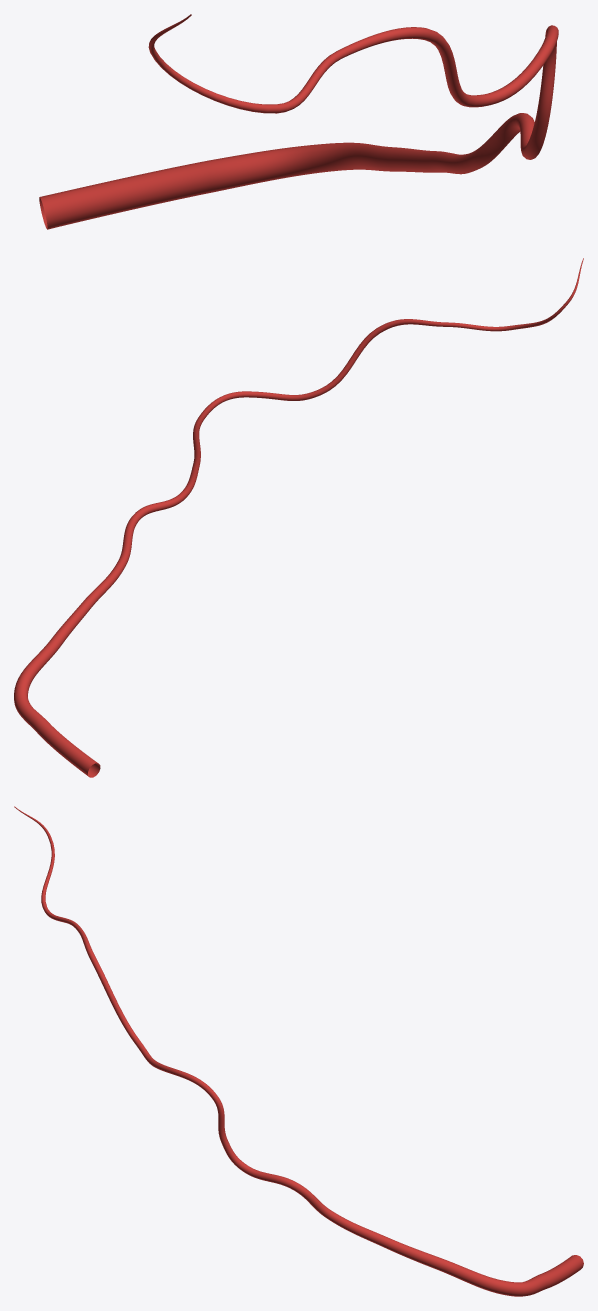
The picture shows the model from 3 angles, top to bottom: view 1: azimuth 30°, elevation 25°; view 2: azimuth 150°, elevation 25°; view 3: azimuth 270°, elevation 25°; orthographic projection. The views are drawn at different scales.
Visible parts, largest first — view 1: 左侧中央沟动脉; view 2: 左侧中央沟动脉; view 3: 左侧中央沟动脉.
Boxes of the visible parts, x1,y1,x2,y2 form: 左侧中央沟动脉: (39, 14, 558, 229); 左侧中央沟动脉: (14, 258, 583, 777); 左侧中央沟动脉: (14, 806, 583, 1296).
Size of the model in its own units: 0.0733 by 0.0771 by 0.1096.
